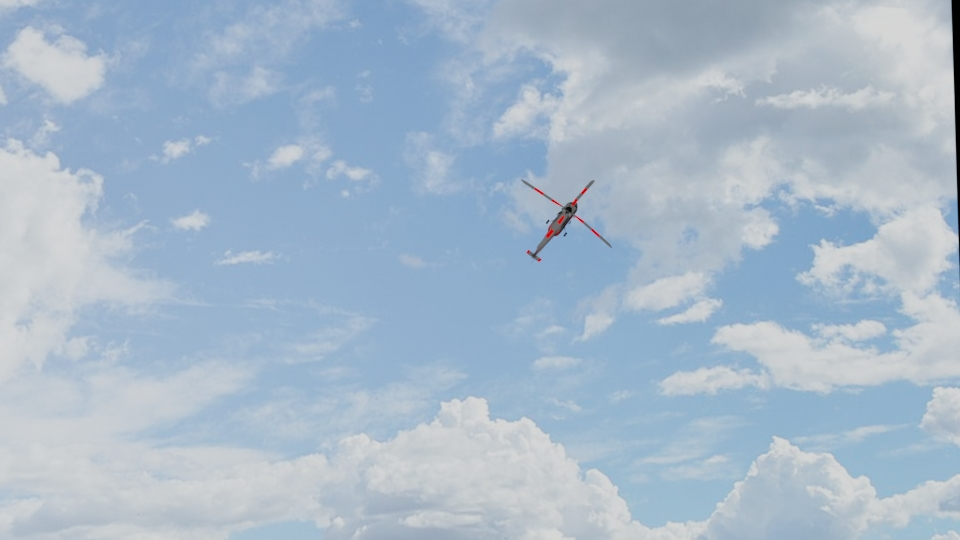heli: (525, 178, 599, 262)
